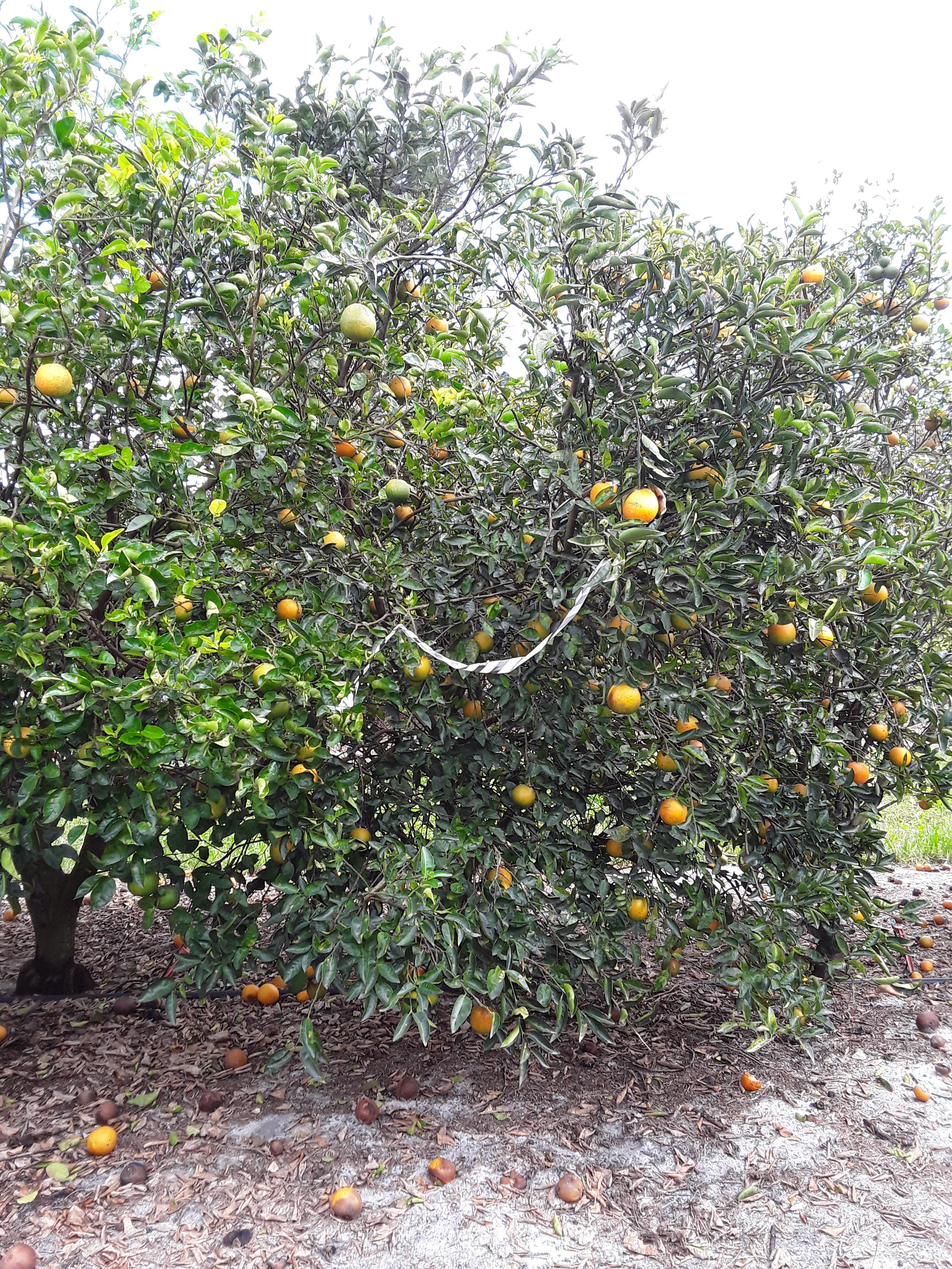fruit_on_ground: (618, 488, 661, 529), (336, 304, 380, 344), (391, 982, 435, 1020), (36, 360, 73, 403), (556, 589, 595, 626), (72, 737, 112, 773), (587, 477, 626, 512), (606, 680, 644, 715), (289, 729, 329, 762), (148, 797, 181, 837), (607, 608, 642, 644), (101, 790, 136, 826), (839, 503, 873, 540), (4, 725, 38, 762), (196, 787, 232, 821), (266, 833, 302, 867), (320, 411, 356, 443), (709, 322, 746, 353), (162, 591, 198, 622), (252, 658, 285, 691), (683, 738, 715, 771), (164, 411, 198, 442), (316, 530, 349, 561), (261, 692, 294, 723), (327, 428, 358, 460), (289, 764, 321, 795), (154, 879, 184, 912), (396, 274, 425, 308), (508, 638, 539, 669), (422, 311, 453, 342), (384, 372, 414, 404), (163, 513, 198, 540), (476, 588, 506, 619), (527, 611, 558, 641), (483, 862, 513, 893), (468, 1005, 498, 1036), (766, 619, 798, 648), (128, 865, 158, 895), (275, 596, 307, 624), (405, 649, 434, 679), (659, 798, 689, 827), (253, 287, 284, 315), (177, 369, 208, 397), (657, 744, 686, 773), (860, 581, 892, 607), (839, 762, 872, 787), (460, 699, 489, 727), (283, 464, 310, 494), (143, 264, 170, 294), (275, 506, 306, 532), (123, 375, 150, 404), (350, 444, 376, 474), (805, 490, 835, 516), (422, 436, 450, 463), (809, 624, 836, 652), (510, 782, 537, 810), (755, 429, 781, 458), (0, 382, 24, 413), (643, 435, 675, 458), (651, 626, 679, 652), (673, 711, 702, 736), (304, 974, 333, 999), (466, 629, 497, 652), (627, 893, 652, 921), (399, 963, 427, 988), (799, 263, 827, 288), (693, 910, 719, 936), (361, 594, 390, 617), (705, 468, 731, 493), (384, 479, 411, 503), (438, 490, 465, 514), (625, 294, 652, 318), (882, 295, 906, 322), (887, 697, 912, 722), (672, 607, 698, 631), (709, 671, 733, 697), (391, 505, 419, 527), (886, 747, 914, 769), (754, 772, 778, 797), (688, 458, 715, 480), (479, 503, 506, 525), (518, 673, 542, 697), (513, 531, 536, 556), (752, 815, 778, 837), (847, 404, 874, 425), (830, 365, 856, 386), (882, 426, 907, 447), (633, 668, 658, 689), (864, 724, 890, 744), (642, 579, 664, 602), (349, 826, 371, 849), (640, 269, 662, 292), (798, 393, 826, 411), (607, 836, 627, 861), (569, 447, 595, 466), (170, 932, 196, 951), (638, 834, 660, 856), (688, 435, 712, 455), (607, 266, 631, 286), (923, 416, 945, 437), (749, 599, 772, 619), (438, 671, 463, 689), (910, 313, 931, 334), (726, 422, 745, 445), (788, 783, 811, 802), (688, 787, 706, 811), (384, 429, 405, 449), (861, 290, 882, 310), (919, 433, 941, 452), (552, 287, 572, 307), (592, 647, 611, 667), (686, 263, 705, 283), (801, 337, 822, 355), (927, 404, 951, 419), (916, 795, 936, 813), (848, 904, 868, 922), (488, 353, 505, 372), (819, 696, 836, 714), (660, 262, 677, 280), (820, 312, 837, 330), (786, 592, 802, 610), (584, 675, 602, 691), (866, 266, 885, 280), (884, 265, 900, 281), (477, 379, 493, 394), (890, 380, 904, 396), (777, 311, 793, 323), (878, 255, 893, 266), (908, 383, 920, 396)
fruit_on_tree: (326, 1187, 364, 1222), (0, 1238, 42, 1269), (84, 1126, 119, 1160), (553, 1173, 587, 1204), (108, 991, 143, 1018), (95, 1098, 127, 1127), (192, 1089, 225, 1117), (425, 1159, 457, 1186), (117, 1164, 149, 1190), (221, 1048, 249, 1076), (394, 1075, 422, 1100), (72, 1087, 99, 1112), (356, 1097, 380, 1125), (740, 1069, 764, 1094), (916, 1011, 942, 1034), (911, 1080, 934, 1105), (258, 983, 279, 1009), (265, 1136, 287, 1158), (715, 974, 738, 995), (0, 905, 24, 923), (601, 1006, 626, 1023), (80, 890, 98, 912), (579, 1039, 598, 1058), (0, 1023, 14, 1048), (242, 984, 261, 1002), (273, 971, 290, 989), (934, 1060, 952, 1077), (574, 927, 594, 941), (920, 933, 934, 951), (302, 961, 320, 975), (296, 990, 310, 1007), (931, 1035, 946, 1050), (908, 971, 926, 982), (931, 913, 946, 926), (920, 961, 936, 973), (940, 898, 952, 912), (892, 912, 904, 924), (917, 916, 928, 929), (887, 872, 896, 885), (895, 875, 905, 886), (912, 886, 922, 897), (943, 862, 952, 873), (913, 863, 923, 872), (898, 898, 910, 905), (926, 862, 934, 872), (927, 882, 935, 890), (872, 909, 884, 914), (948, 885, 952, 893)
